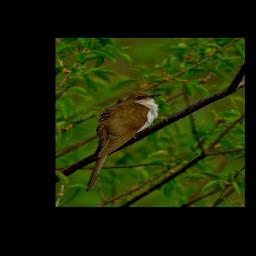Cuckoo: (84, 92, 163, 193)
